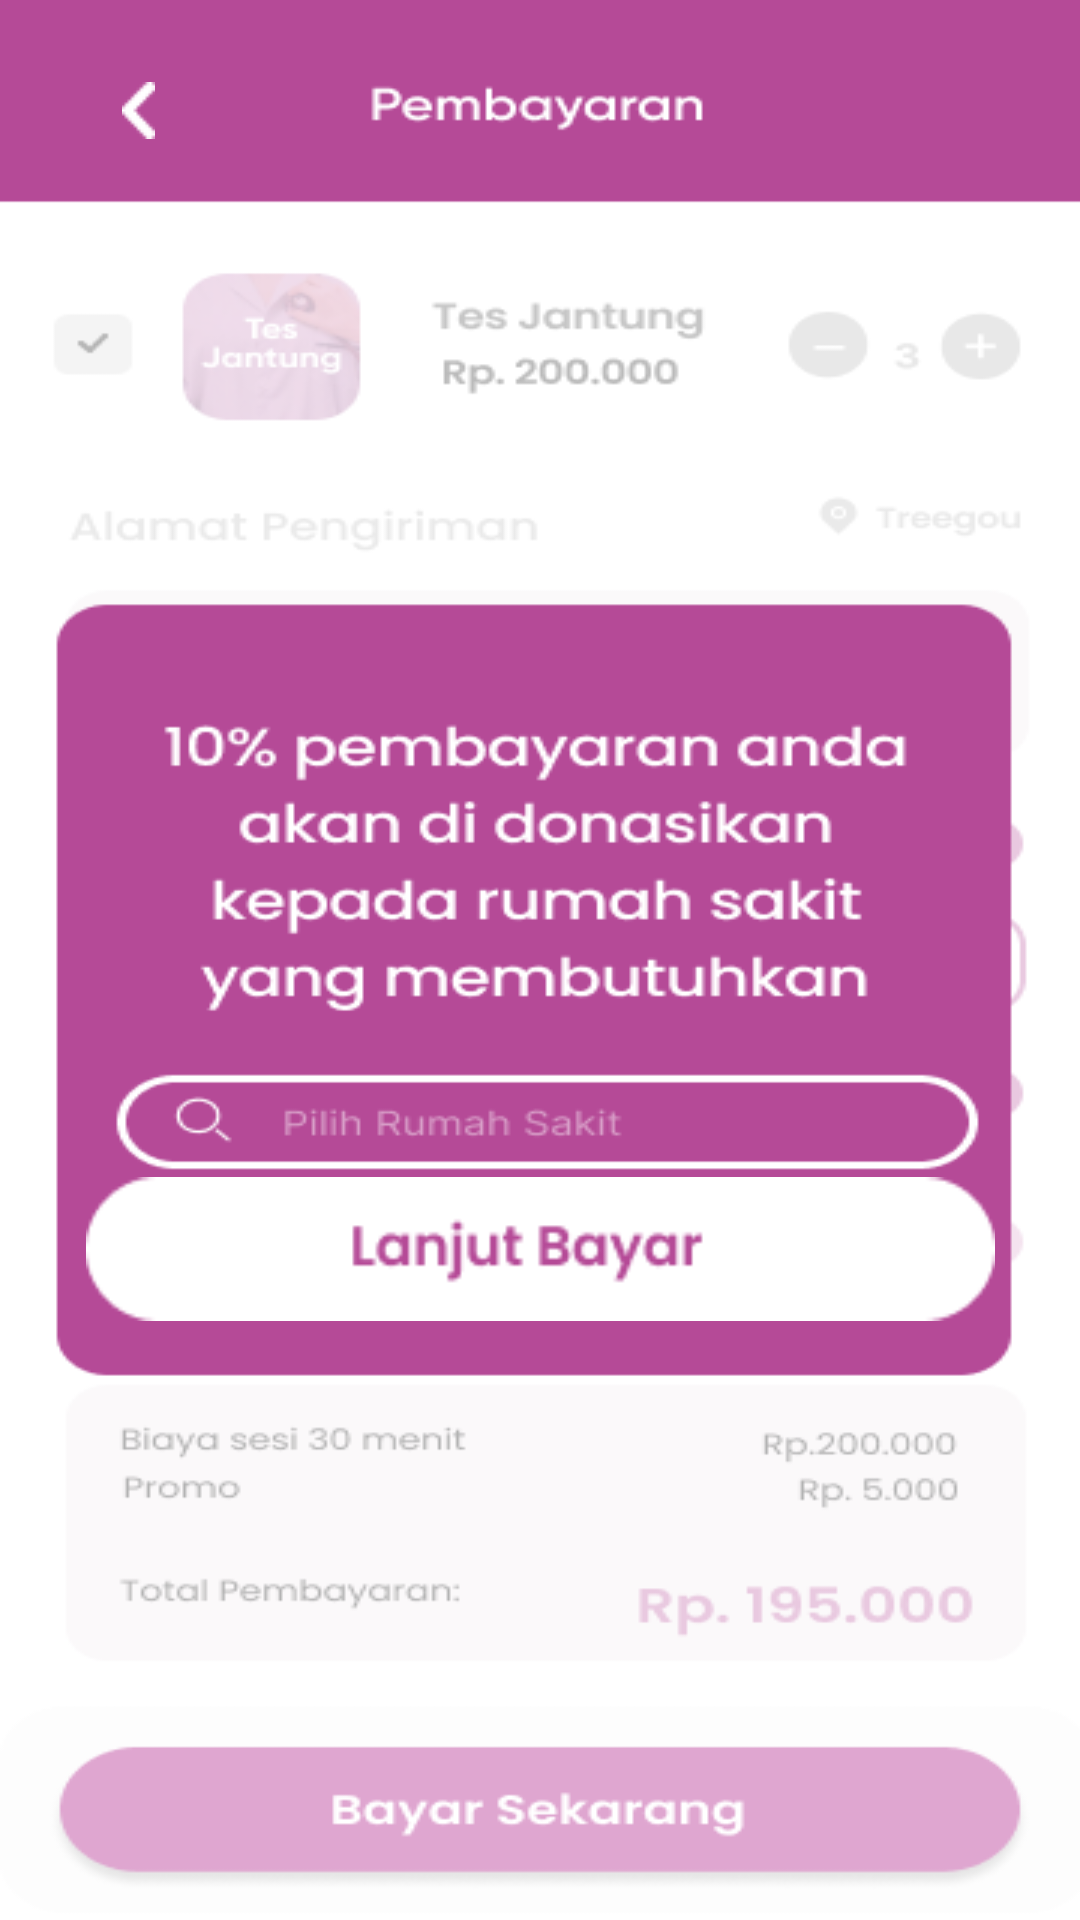

Icon bounding boxes for this 1080 × 1920 phone screenshot, format detection(x1, y1, x2, y2):
back: detection(122, 82, 155, 139)
